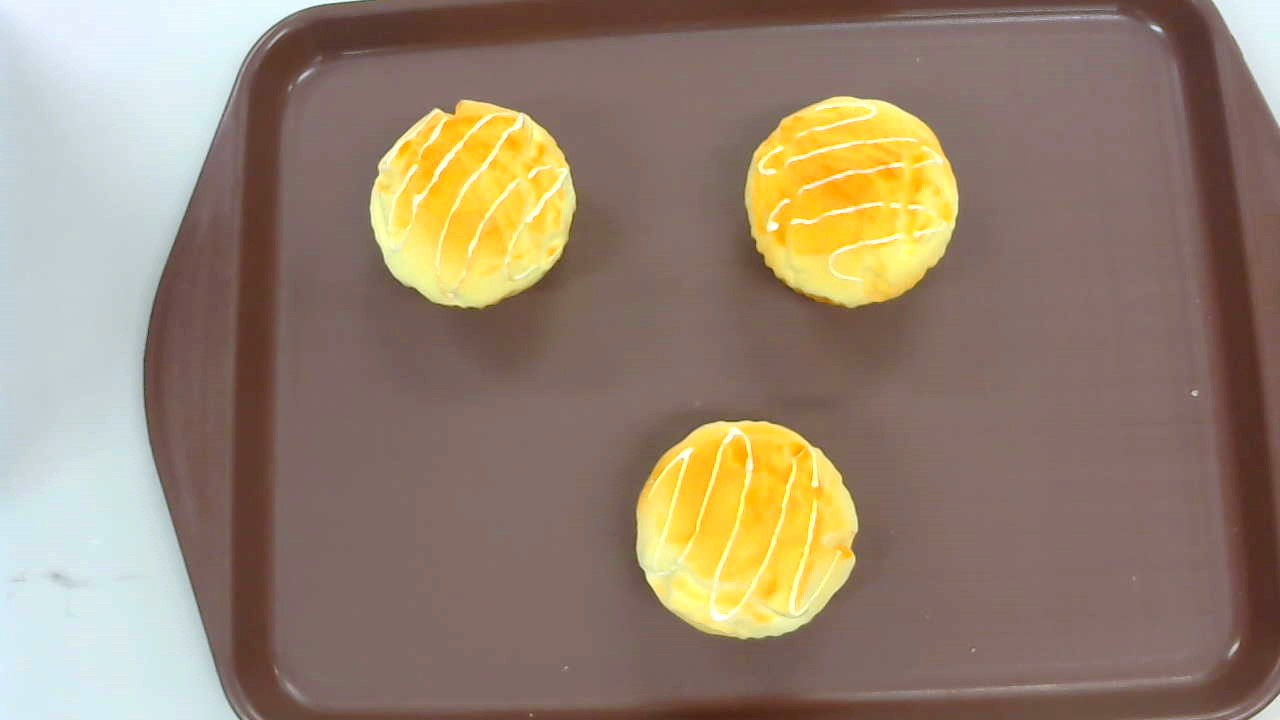cupcake: (635, 418, 860, 641), (367, 98, 578, 313), (745, 97, 960, 308)
